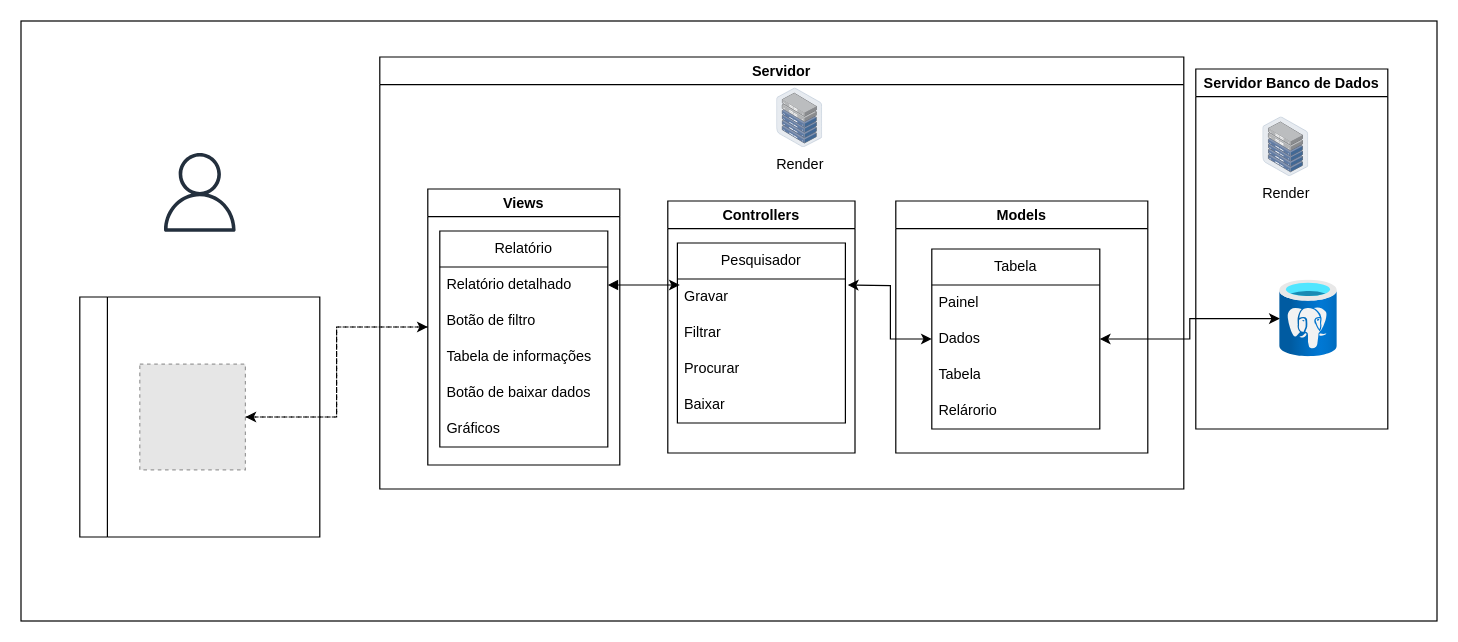
This 1458x642 diagram has some shape labels left out. Grey dashed boxes stand in for pictures. The shapes that lost their labels are listed below. From the top down, each one's centre as x and y in pixels, then its label:
At [199,191]: "Administrador".
At [199,416]: "Cliente".
